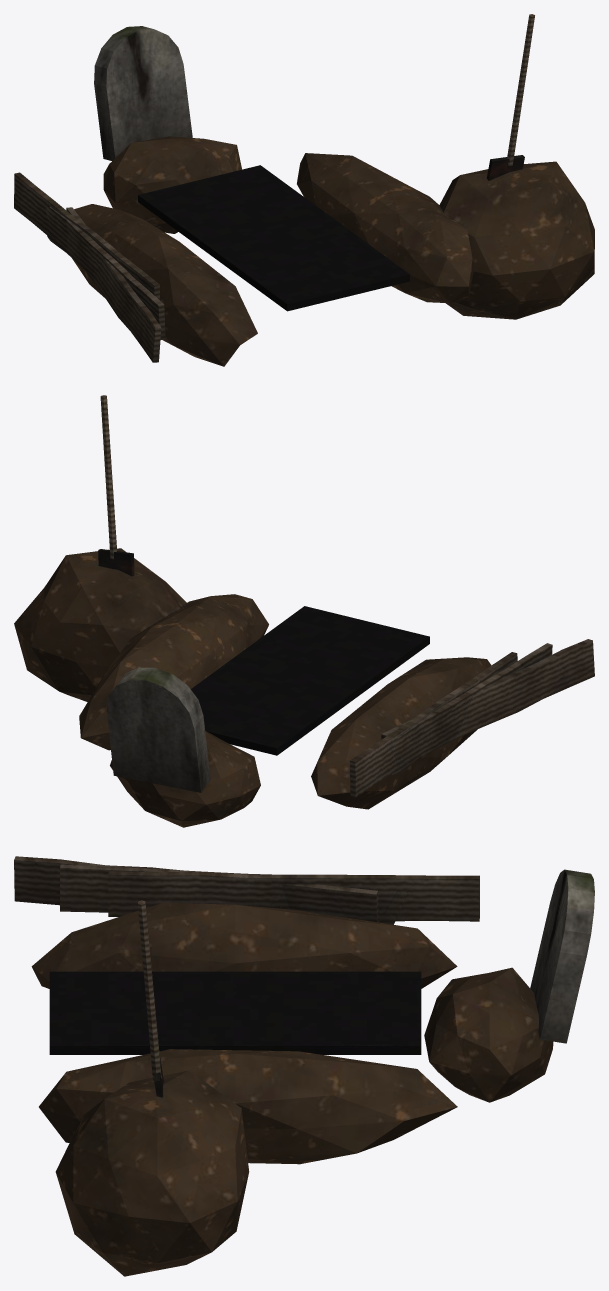
Rendered from grave_open.glb.
3 views of the same model, one above another, from view 1: azimuth 30°, elevation 25°; view 2: azimuth 150°, elevation 25°; view 3: azimuth 270°, elevation 25° (orthographic). The views are drawn at different scales.
Visible parts, largest first — view 1: grave_open; view 2: grave_open; view 3: grave_open.
Boxes of the visible parts, x1,y1,x2,y2 form: grave_open: [14, 14, 594, 366]; grave_open: [14, 395, 594, 827]; grave_open: [14, 856, 594, 1276].
Size of the model in its own units: 3.66 by 2.1 by 2.97.
Materials: 1 (1 with a texture image).
